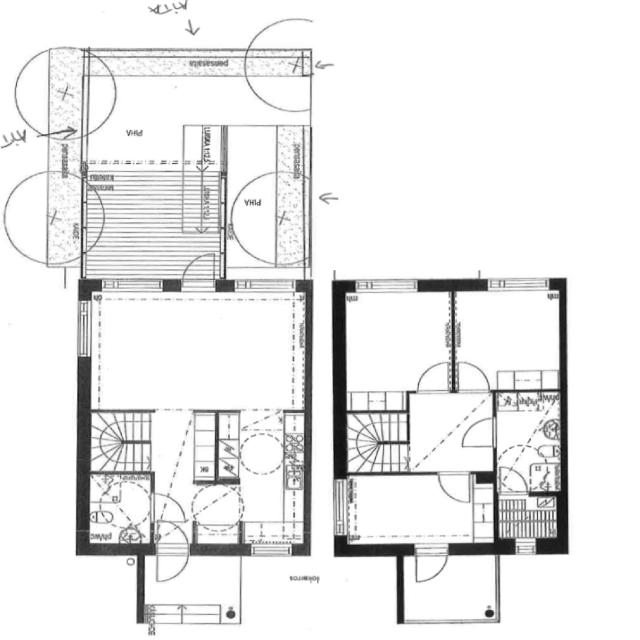door: (492, 391, 564, 494), (152, 520, 192, 584), (190, 481, 242, 530), (411, 544, 452, 587), (179, 250, 220, 290), (434, 467, 474, 506), (6, 171, 49, 207), (412, 359, 453, 395), (236, 233, 278, 268), (454, 358, 493, 395), (460, 414, 500, 450), (152, 492, 188, 524), (80, 227, 104, 254)
window: (72, 297, 99, 364), (329, 476, 355, 543), (482, 273, 554, 295), (351, 276, 424, 297), (229, 276, 303, 296), (100, 277, 168, 296), (246, 542, 296, 560), (511, 538, 542, 557)
zone: (92, 291, 305, 411), (342, 286, 454, 403), (340, 472, 494, 552), (225, 413, 307, 553), (453, 287, 562, 392), (494, 389, 564, 493), (86, 473, 155, 548), (494, 493, 562, 546), (192, 481, 244, 533)
